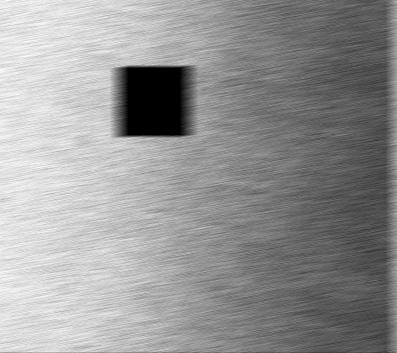Airbag: (0, 0, 397, 353), (393, 0, 397, 353)
